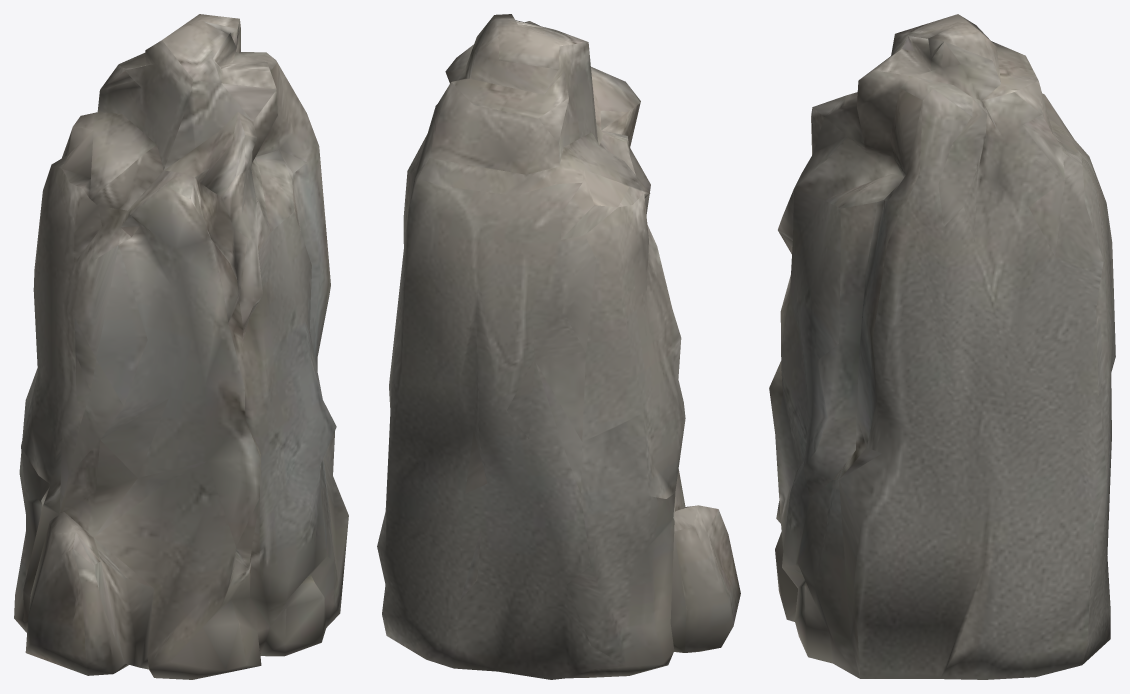
The model's file is rock_tall.gltf.
3 views of the same model, side by side, from view 1: azimuth 30°, elevation 25°; view 2: azimuth 150°, elevation 25°; view 3: azimuth 270°, elevation 25° (orthographic). The views are drawn at different scales.
Visible parts, largest first — view 1: rock_tall; view 2: rock_tall; view 3: rock_tall.
Boxes of the visible parts, x1,y1,x2,y2 form: rock_tall: (14,14,348,679); rock_tall: (377,14,740,679); rock_tall: (769,14,1115,679).
Size of the model in its own units: 0.6266 by 1.2 by 0.6188.
1 material, 1 textured.
